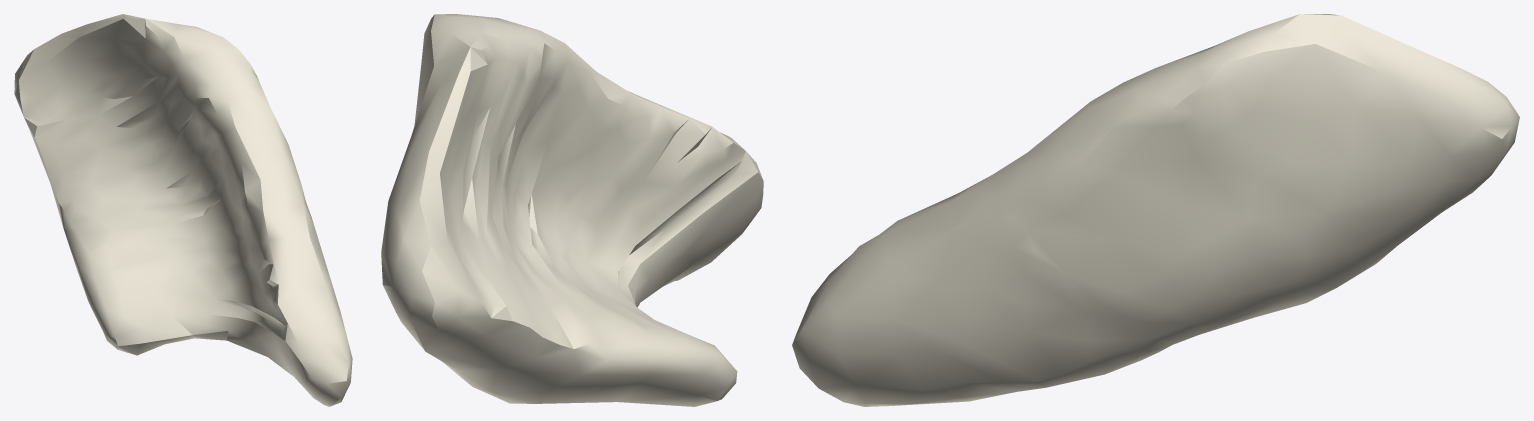
File: fma44453_mm1375m.glb
The picture shows the model from 3 angles, left to right: view 1: azimuth 30°, elevation 25°; view 2: azimuth 150°, elevation 25°; view 3: azimuth 270°, elevation 25°; orthographic projection. The views are drawn at different scales.
Parts seen in each view (by area): view 1: FMA44453_MM1375M; view 2: FMA44453_MM1375M; view 3: FMA44453_MM1375M.
Boxes of the visible parts, x1,y1,x2,y2 form: FMA44453_MM1375M: (14, 14, 352, 406); FMA44453_MM1375M: (381, 14, 763, 406); FMA44453_MM1375M: (792, 14, 1519, 406).
Size of the model in its own units: 0.00545 by 0.0082 by 0.0143.
